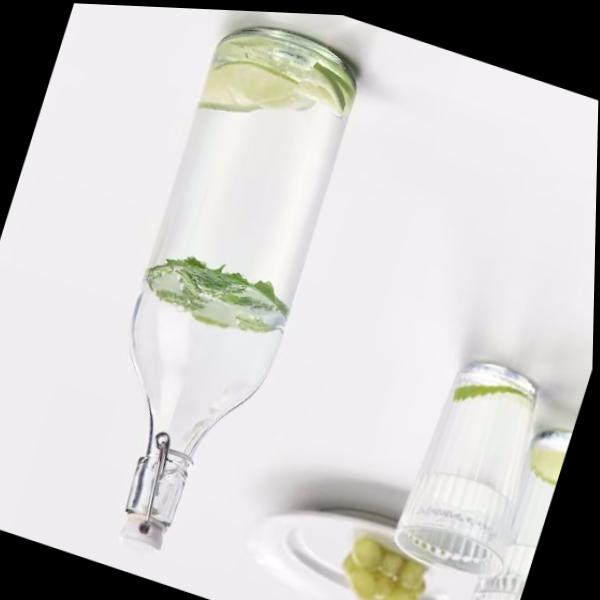glass: (49, 8, 358, 547), (396, 363, 553, 599)
plastic: (396, 363, 553, 599)
